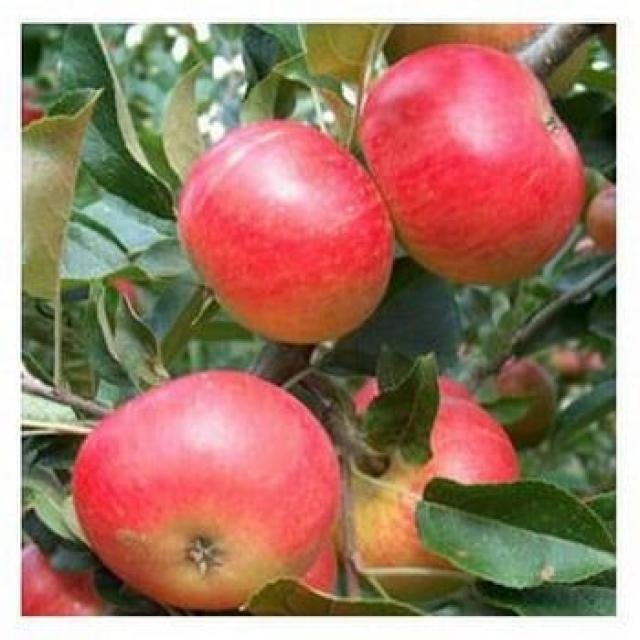apple_fruit: (72, 363, 345, 614), (354, 34, 586, 284), (175, 129, 409, 339)
